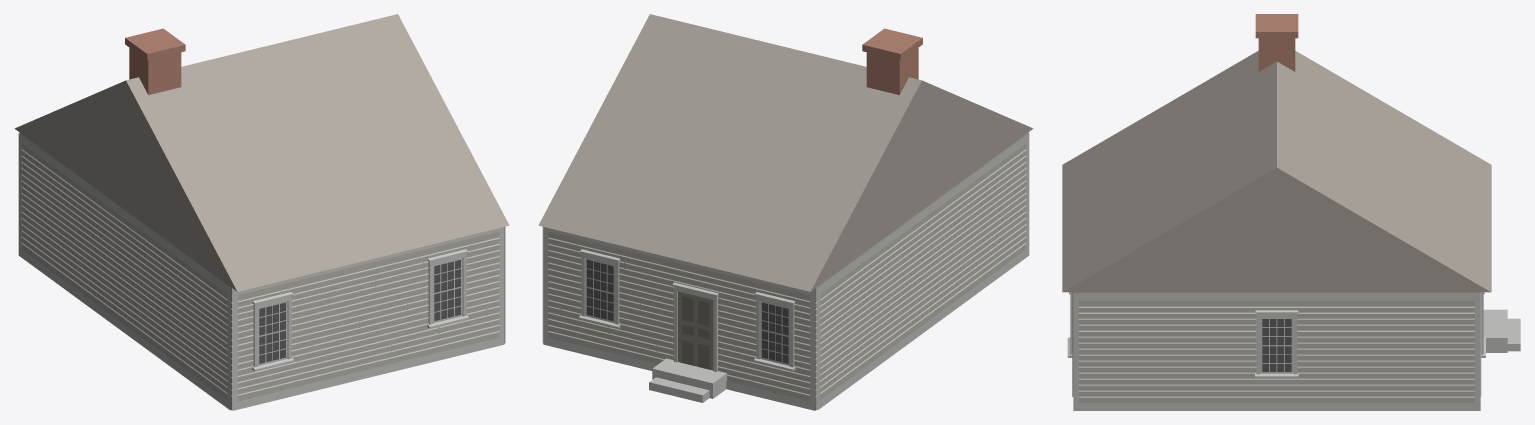
Rendered from recon_1835_blk_school_section_tier_119_d5_06__inferred_1835.glb.
3 views of the same model, side by side, from view 1: azimuth 30°, elevation 25°; view 2: azimuth 150°, elevation 25°; view 3: azimuth 270°, elevation 25° (orthographic). The views are drawn at different scales.
Parts seen in each view (by area): view 1: recon_1835_blk_school_section_tier_119_d5_06__inferred_1835; view 2: recon_1835_blk_school_section_tier_119_d5_06__inferred_1835; view 3: recon_1835_blk_school_section_tier_119_d5_06__inferred_1835.
Boxes of the visible parts, x1,y1,x2,y2 form: recon_1835_blk_school_section_tier_119_d5_06__inferred_1835: (14,14,509,410); recon_1835_blk_school_section_tier_119_d5_06__inferred_1835: (538,14,1033,410); recon_1835_blk_school_section_tier_119_d5_06__inferred_1835: (1062,14,1520,410).
Bounding box in the file's own units: 7.1 × 6.94 × 10.55.
